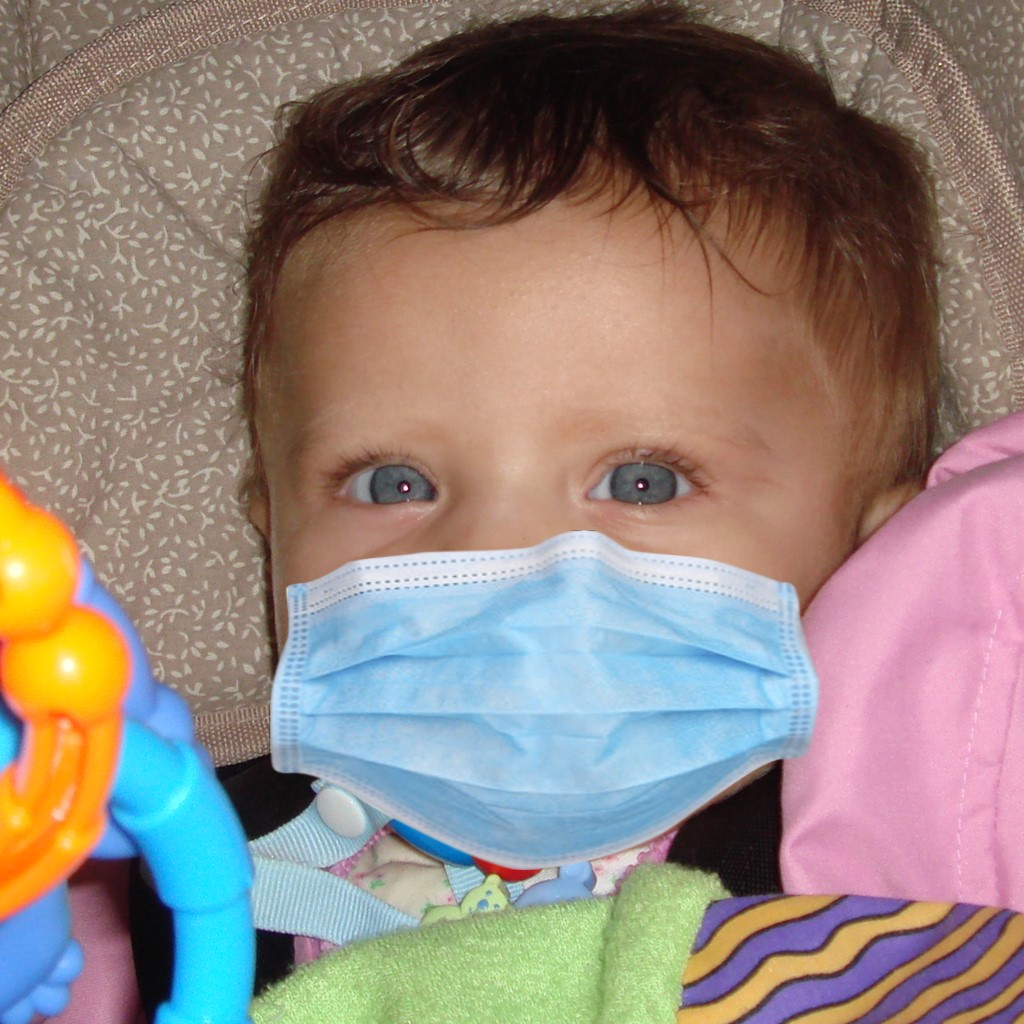con_mascara: (230, 142, 884, 841)
